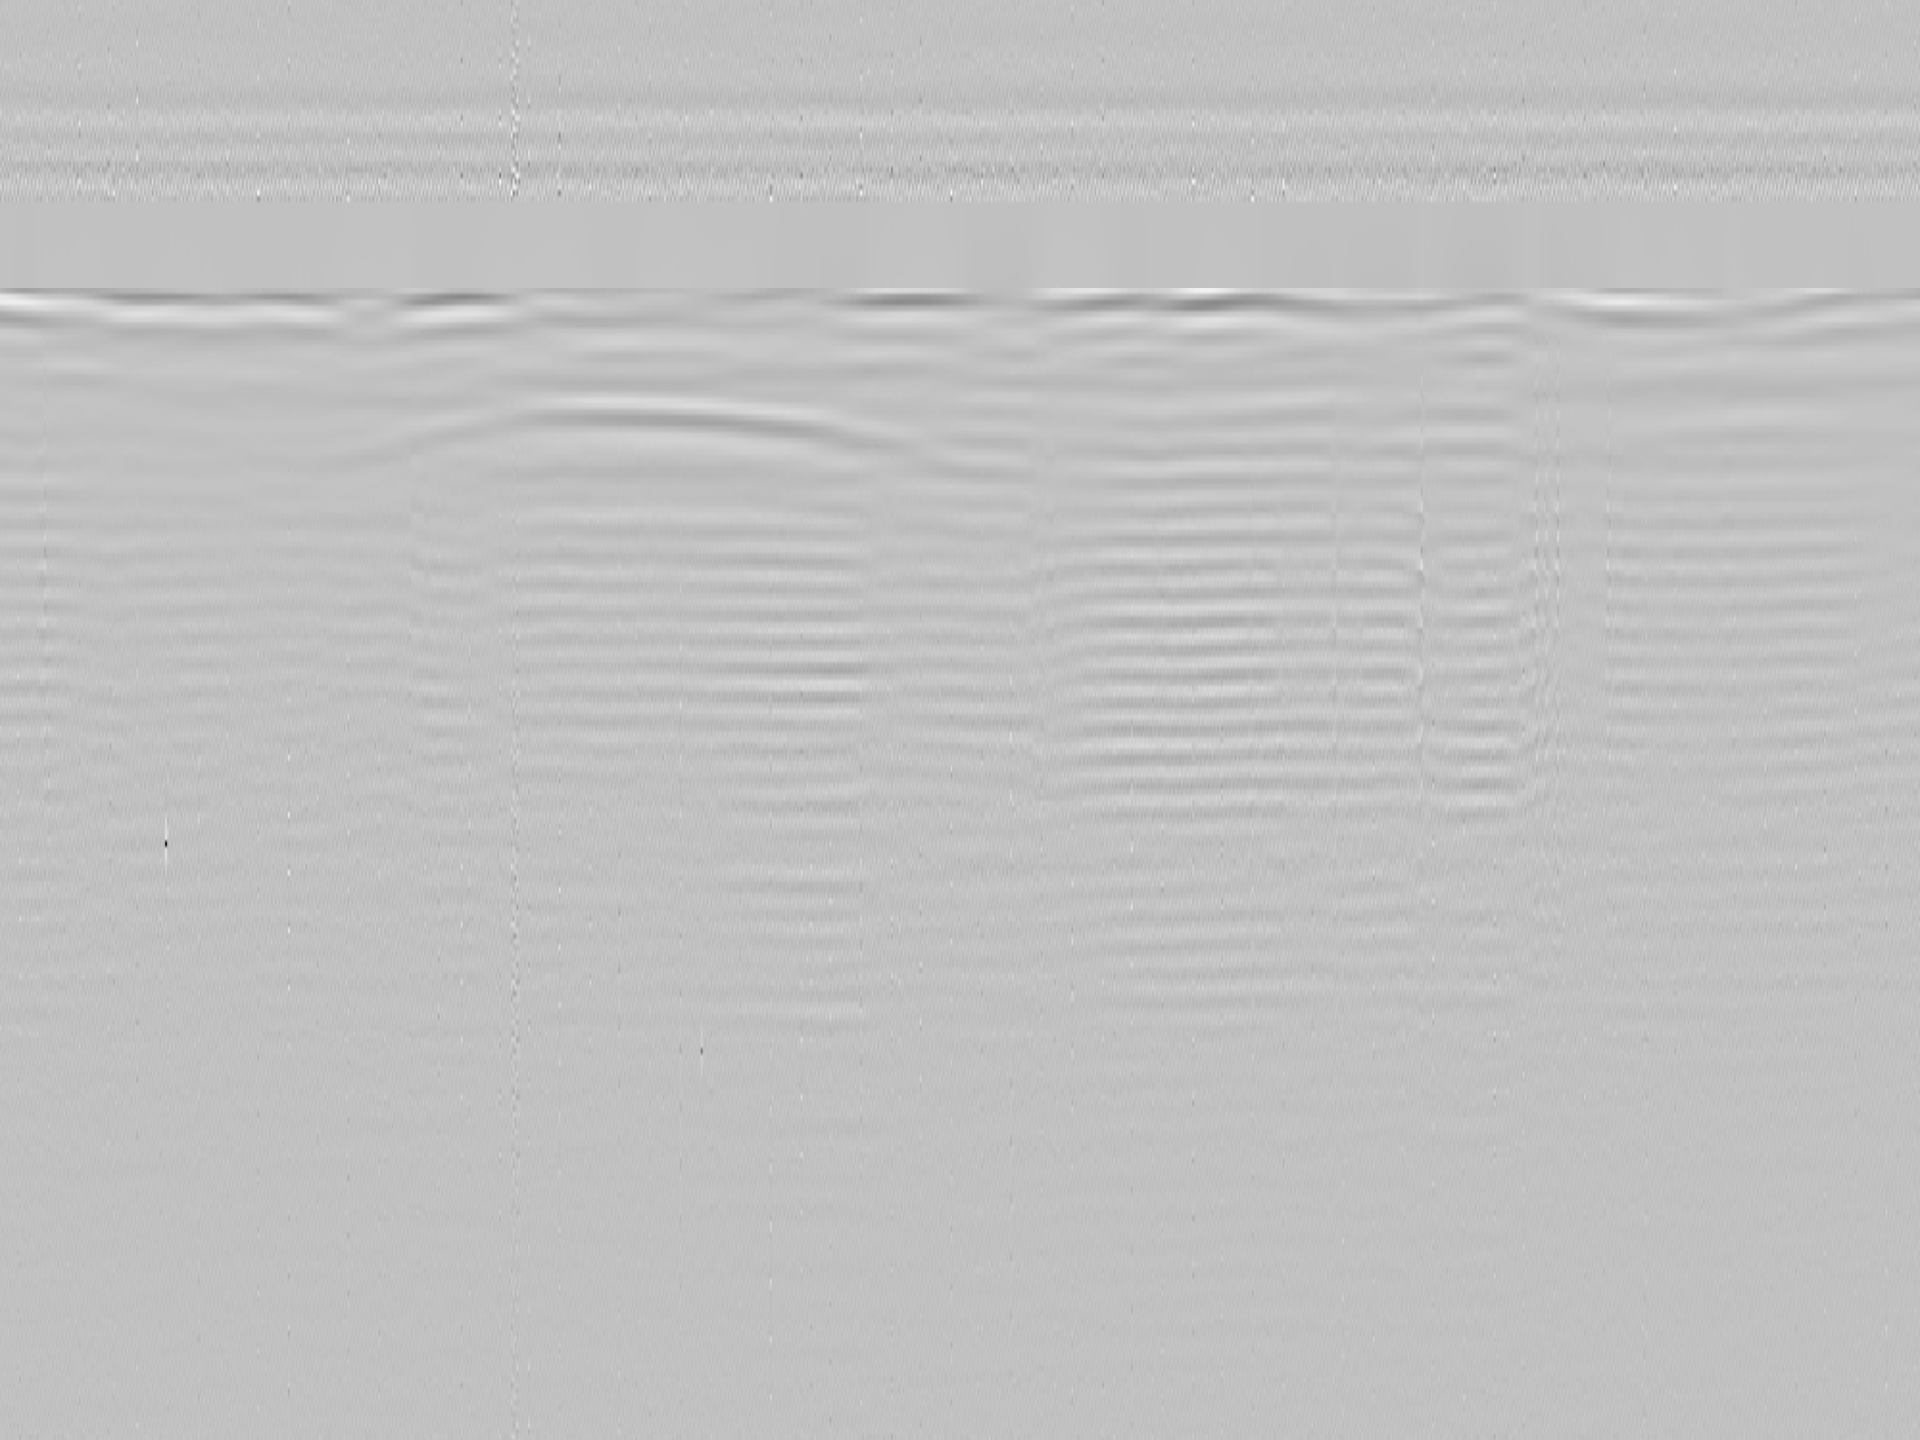Tunnel: (333, 398, 1027, 478)
